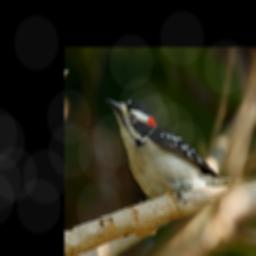Woodpecker: (104, 92, 247, 207)
